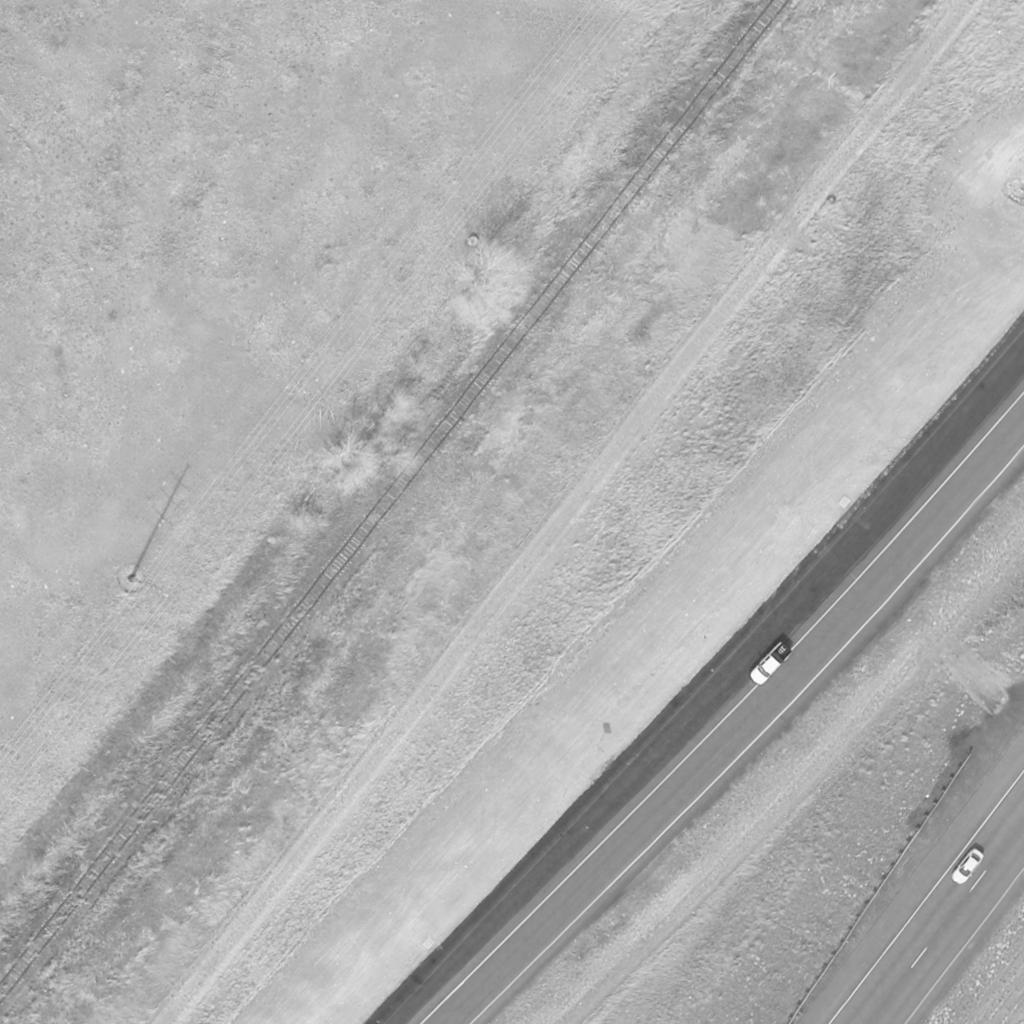vehicle: (746, 643, 794, 685), (950, 846, 986, 886)
